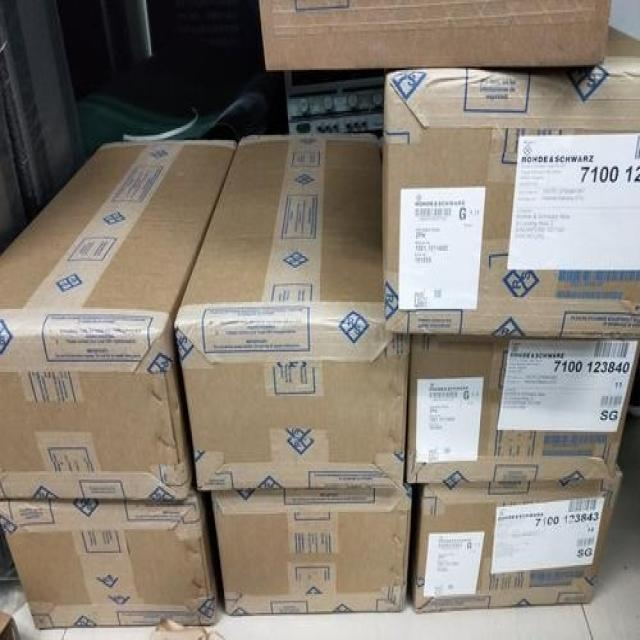box: (173, 132, 412, 491), (0, 140, 237, 500), (382, 26, 639, 338), (405, 334, 639, 482), (0, 488, 223, 630), (409, 464, 620, 613), (213, 487, 410, 611), (259, 3, 611, 67)
